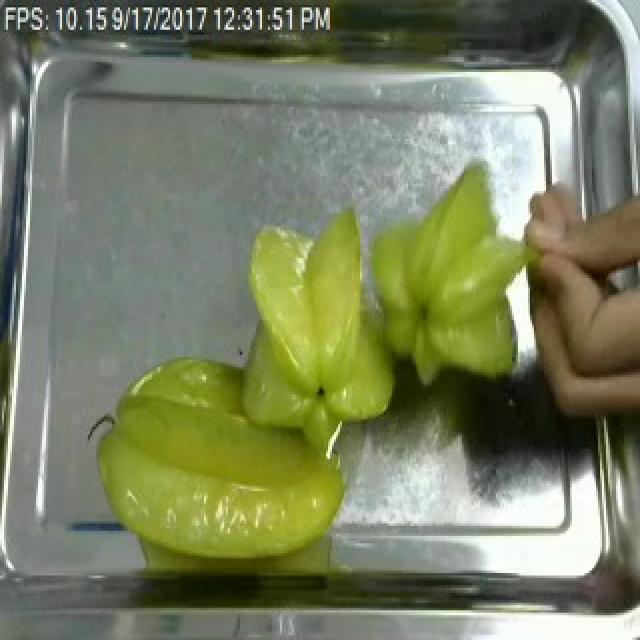fruit: (244, 169, 538, 414), (84, 348, 356, 576), (230, 203, 410, 439), (388, 154, 538, 397)
